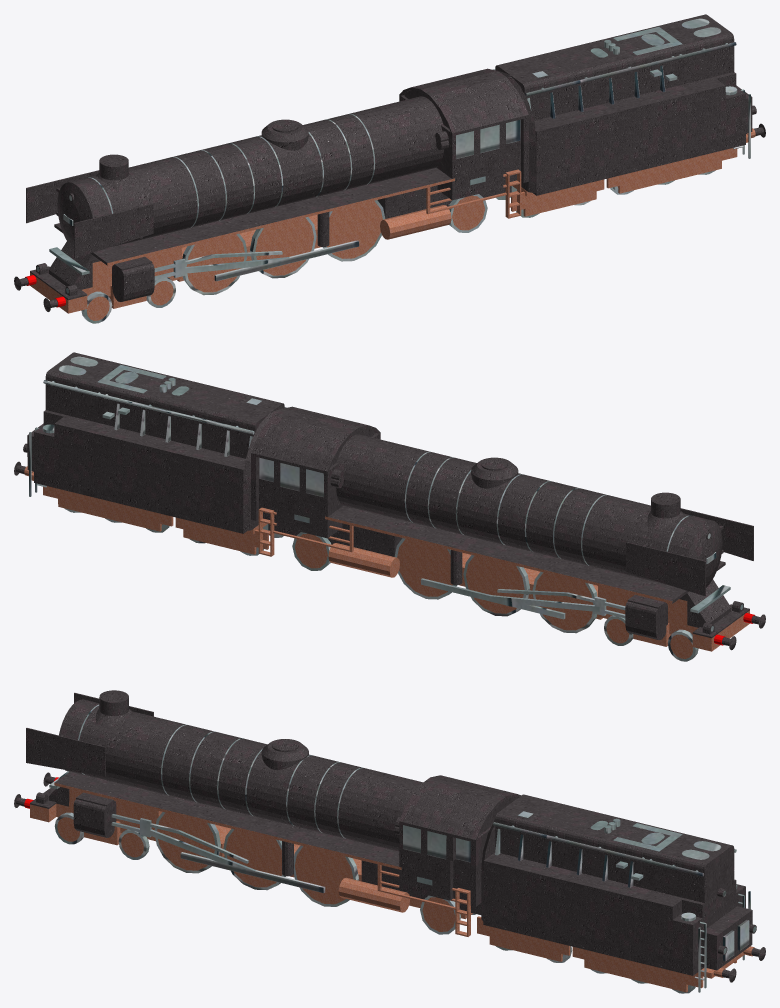
Rendered from GMLID_0574825_29536_285.dae.
3 views of the same model, one above another, from view 1: azimuth 30°, elevation 25°; view 2: azimuth 150°, elevation 25°; view 3: azimuth 330°, elevation 25° (orthographic).
Bounding box in the file's own units: 31.75 × 4.06 × 6.17.
Materials: 4 (3 with a texture image).
